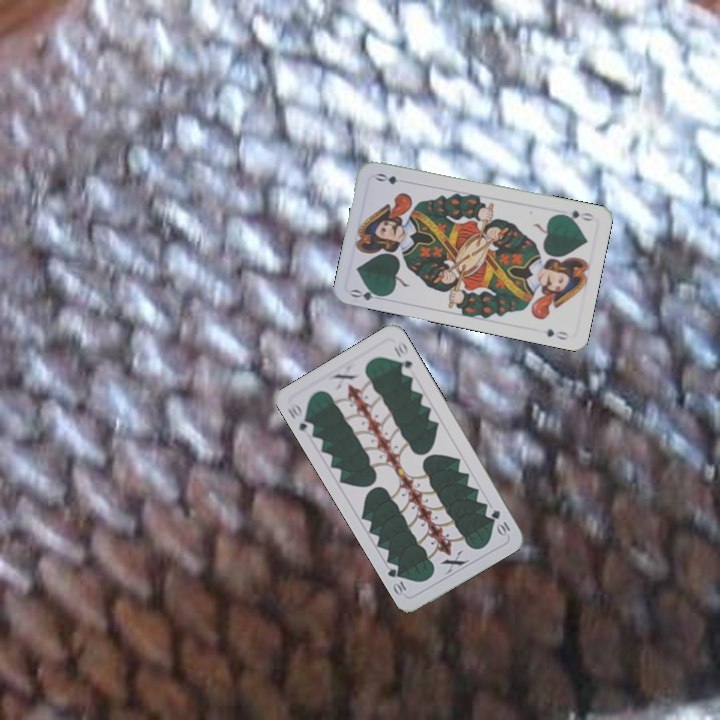G10: (282, 398, 317, 438), (487, 506, 513, 538)
GO: (347, 284, 388, 303), (556, 206, 596, 224)
